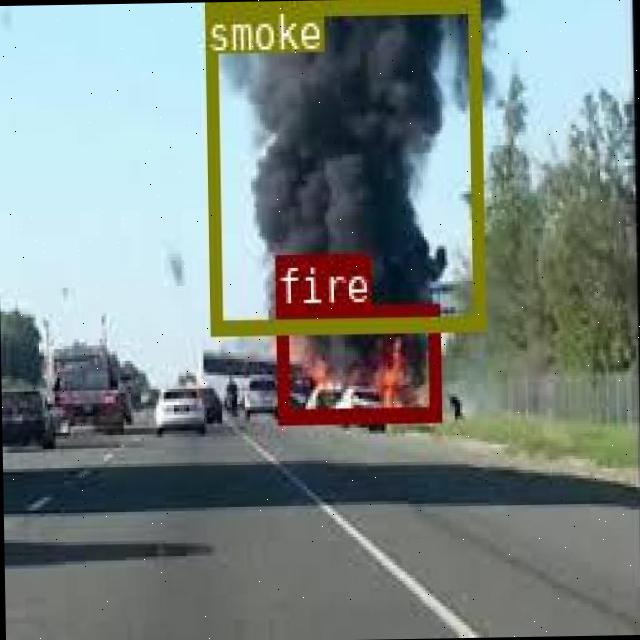fire: (274, 302, 438, 420)
smoke: (204, 0, 483, 333)
